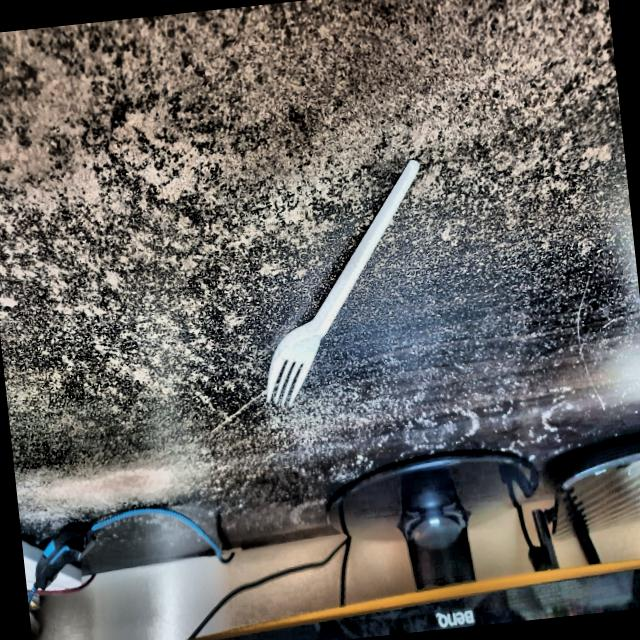plastic utensil: (240, 149, 442, 410)
